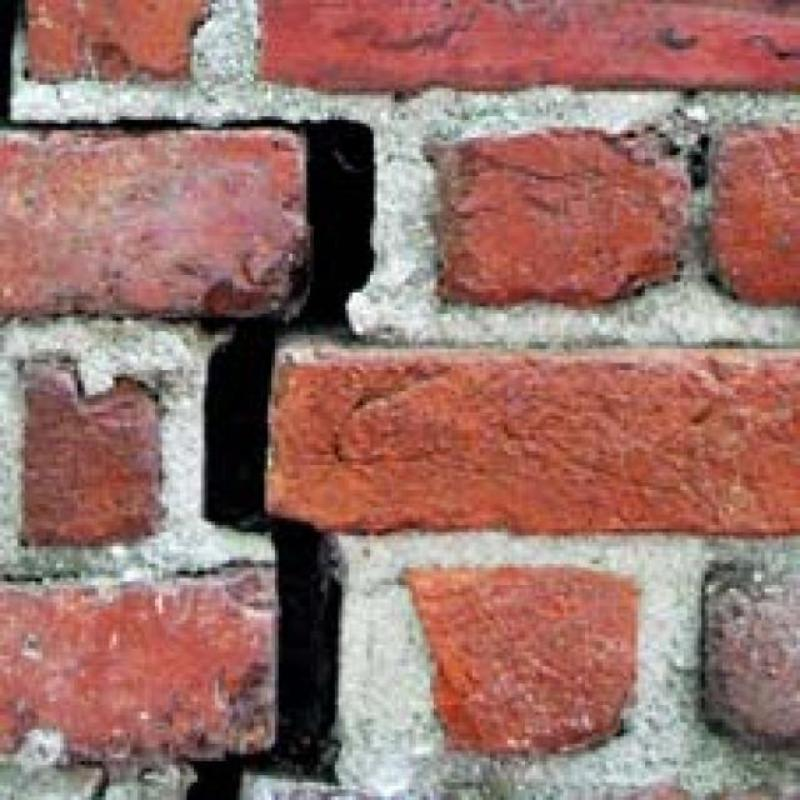pothole: (188, 120, 373, 800), (0, 1, 295, 130), (73, 761, 110, 799)
